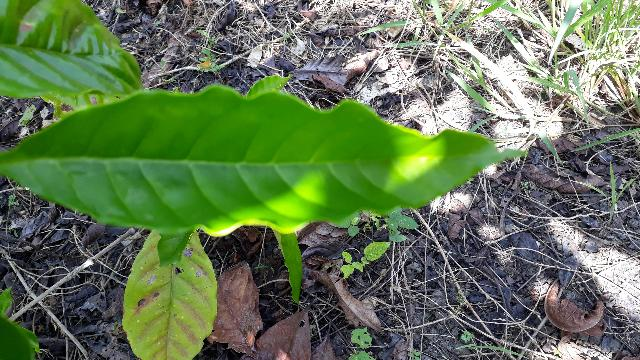healthy: (5, 82, 528, 237)
